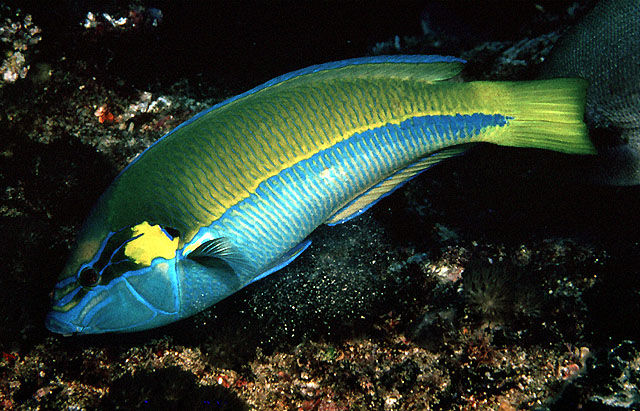fish: (52, 53, 596, 334)
